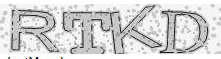D: (160, 8, 211, 59)
K: (110, 5, 163, 56)
R: (10, 8, 61, 53)
T: (62, 10, 112, 55)
